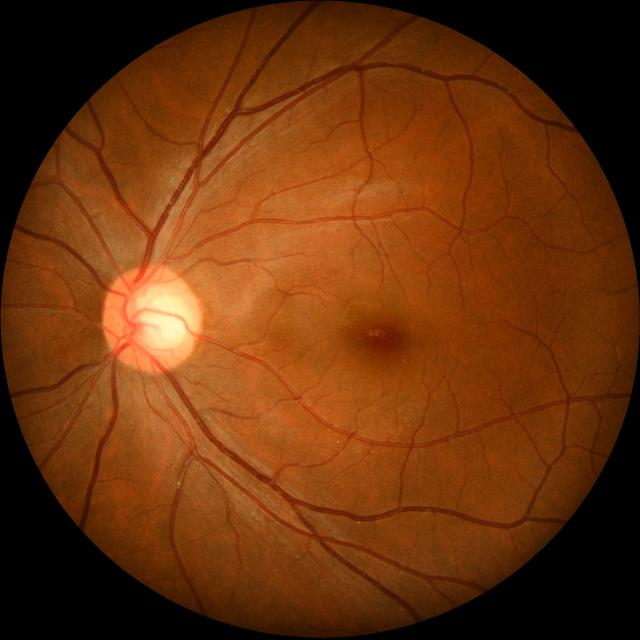OC: (125, 282, 187, 352)
OD: (99, 266, 199, 372)
